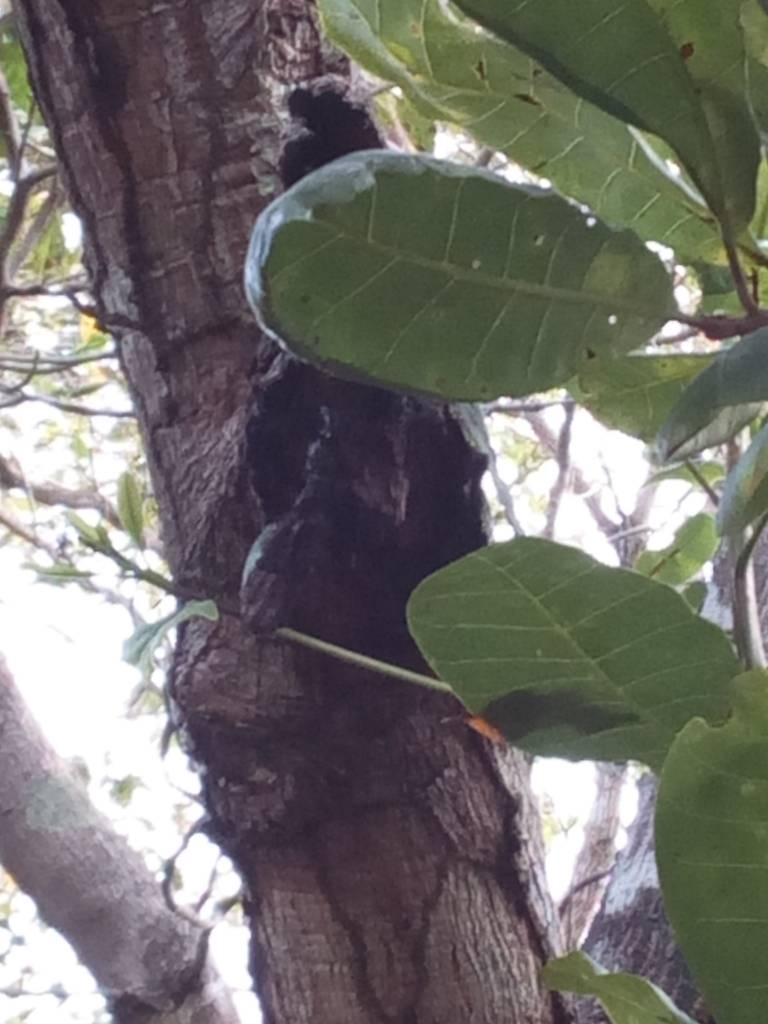Termites: (310, 778, 540, 1021), (77, 5, 224, 361)
